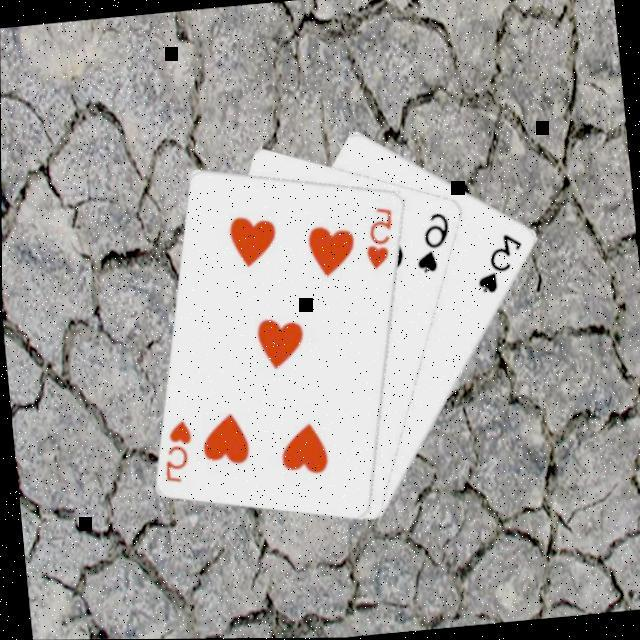3S: (468, 230, 527, 298)
5H: (356, 203, 398, 274), (154, 416, 196, 487)
6S: (406, 209, 454, 278)
